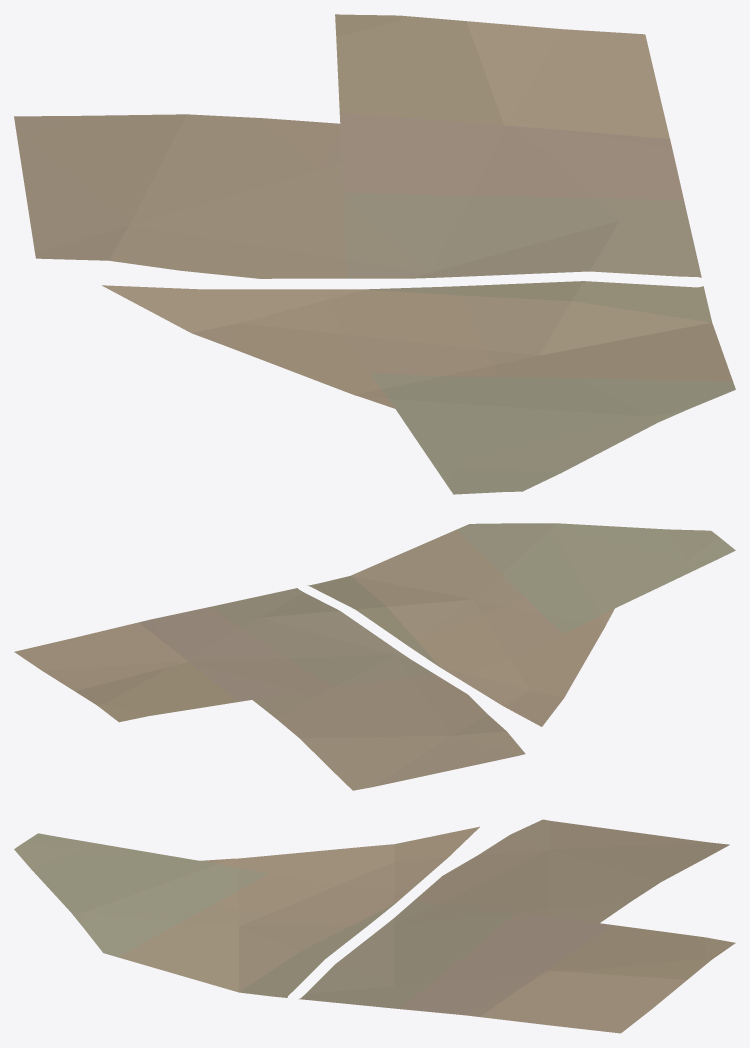
The model's file is farm_27_12_soil.glb.
3 views of the same model, one above another, from view 1: azimuth 30°, elevation 25°; view 2: azimuth 150°, elevation 25°; view 3: azimuth 270°, elevation 25° (orthographic). The views are drawn at different scales.
Visible parts, largest first — view 1: geometry_0; view 2: geometry_0; view 3: geometry_0.
Part boxes in pixels (x1,y1,x2,y2): geometry_0: (14, 14, 735, 494); geometry_0: (14, 523, 735, 790); geometry_0: (14, 819, 735, 1033).
Bounding box in the file's own units: 279 × 23.07 × 371.
